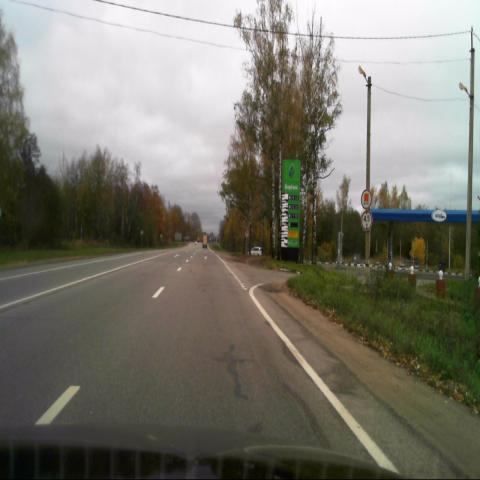3_32: (360, 188, 372, 208)
